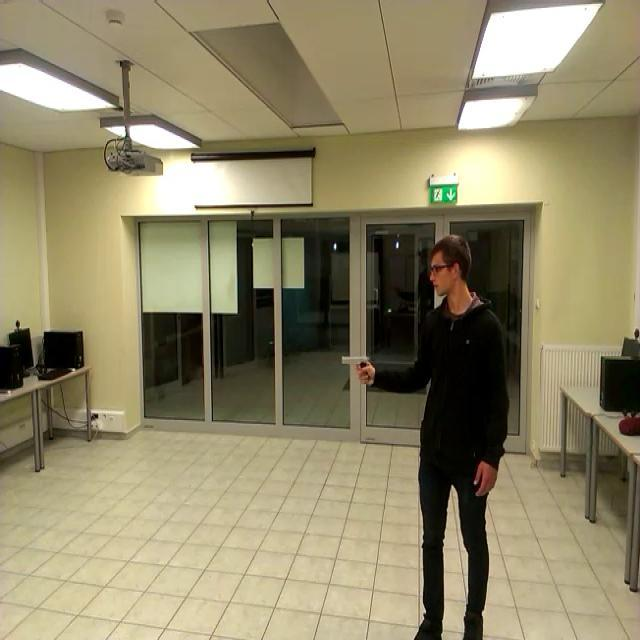Gun: (330, 341, 381, 393)
